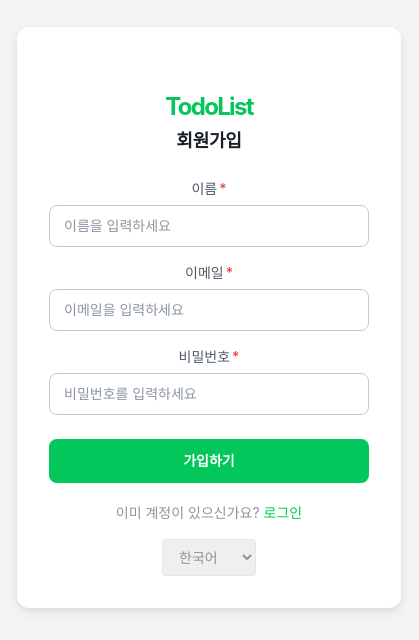
it: RegisterPage › 폼 유효성 검사 › 비밀번호 빈 상태로 제출 시 비밀번호 에러 메시지를 표시한다
The width and height of the screenshot is (419, 640).
Type "홍길동" into the field with placeholder "이름을 입력하세요" at (209, 226), box [49, 204, 369, 246]
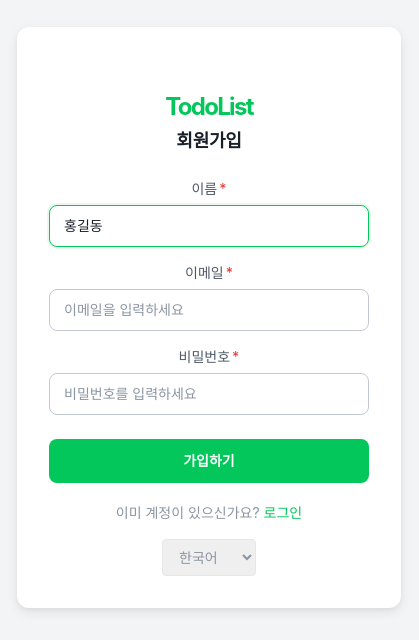
Type "a@b.com" into the field with placeholder "이메일을 입력하세요" at (209, 310), box [49, 288, 369, 330]
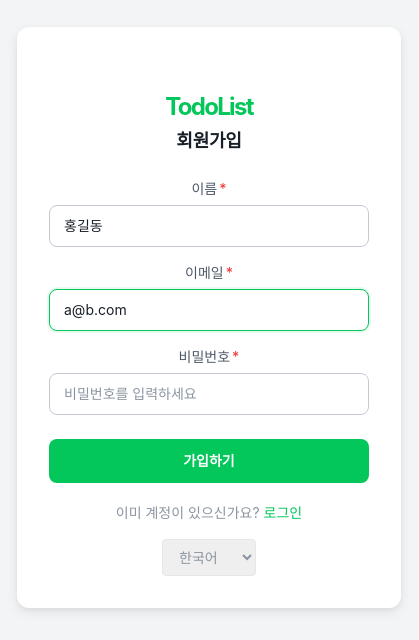
Click the button "가입하기" at (209, 460), box [49, 438, 369, 482]
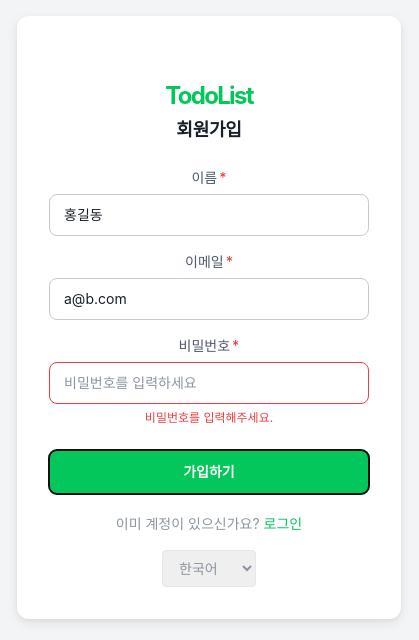
Expected: the text "비밀번호를 입력해주세요." is shown, [145, 410, 273, 424]
